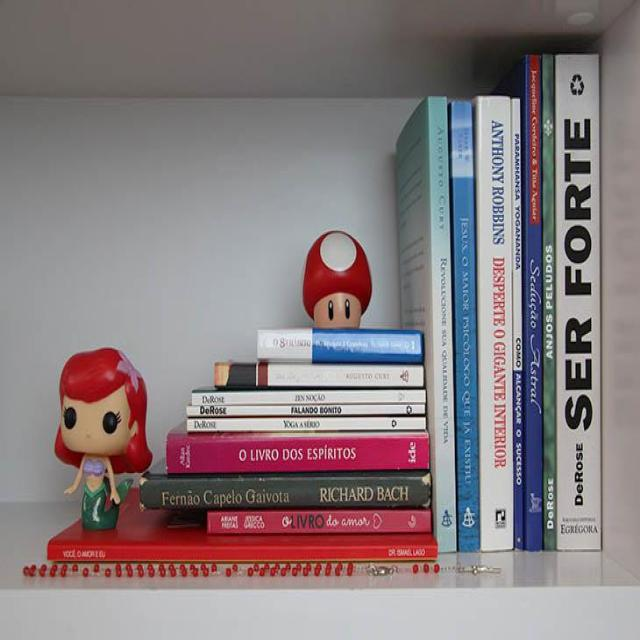book: (559, 59, 597, 548), (486, 106, 504, 544), (459, 111, 477, 548), (150, 480, 426, 506), (53, 544, 435, 561), (440, 135, 453, 546), (210, 512, 428, 530), (219, 366, 424, 385), (260, 334, 418, 357), (198, 392, 423, 402)
